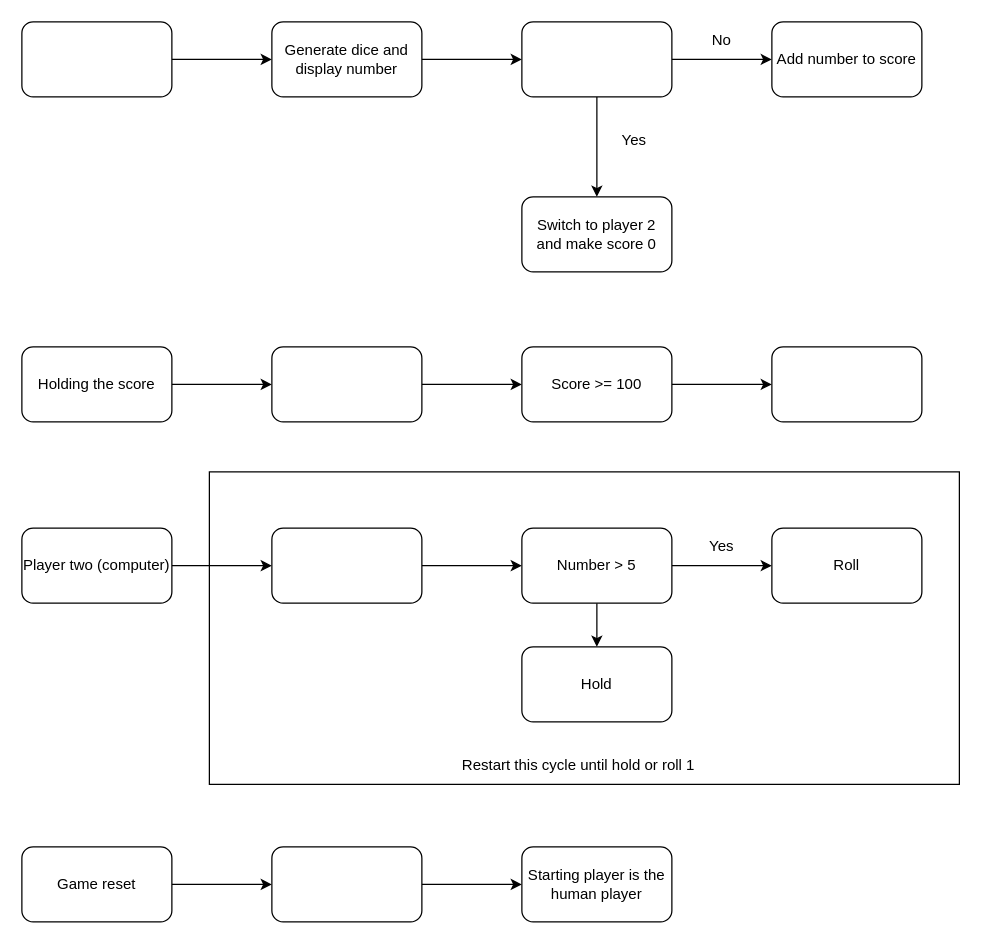
This 981x944 diagram has some shape labels left out. The centre of each missing label's shape, as x and y in pixels:
"Add the number to toal score" goes at point 346,384.
"Current player win" goes at point 846,384.
"Generate random number between 0-10" goes at point 346,565.
"is it 1?" goes at point 596,59.
"Roll dice" goes at point 96,59.
"Set all to 0" goes at point 346,884.
